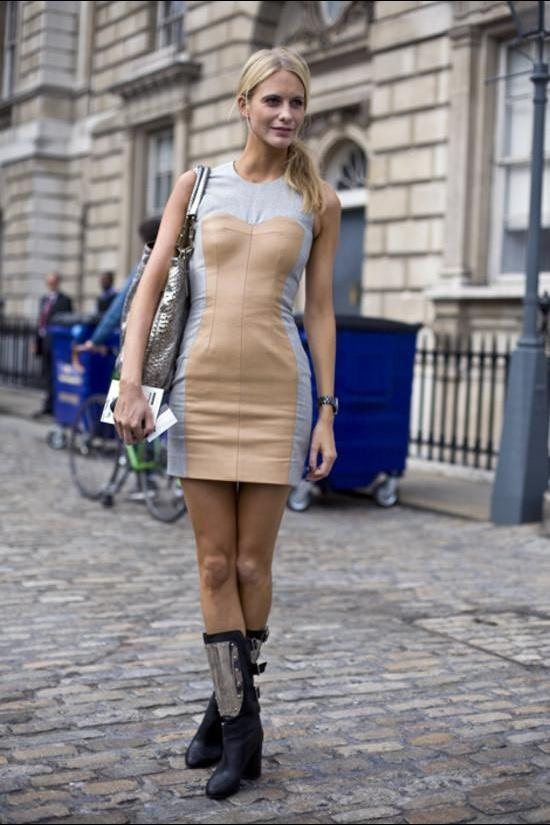dress: (169, 158, 314, 489)
